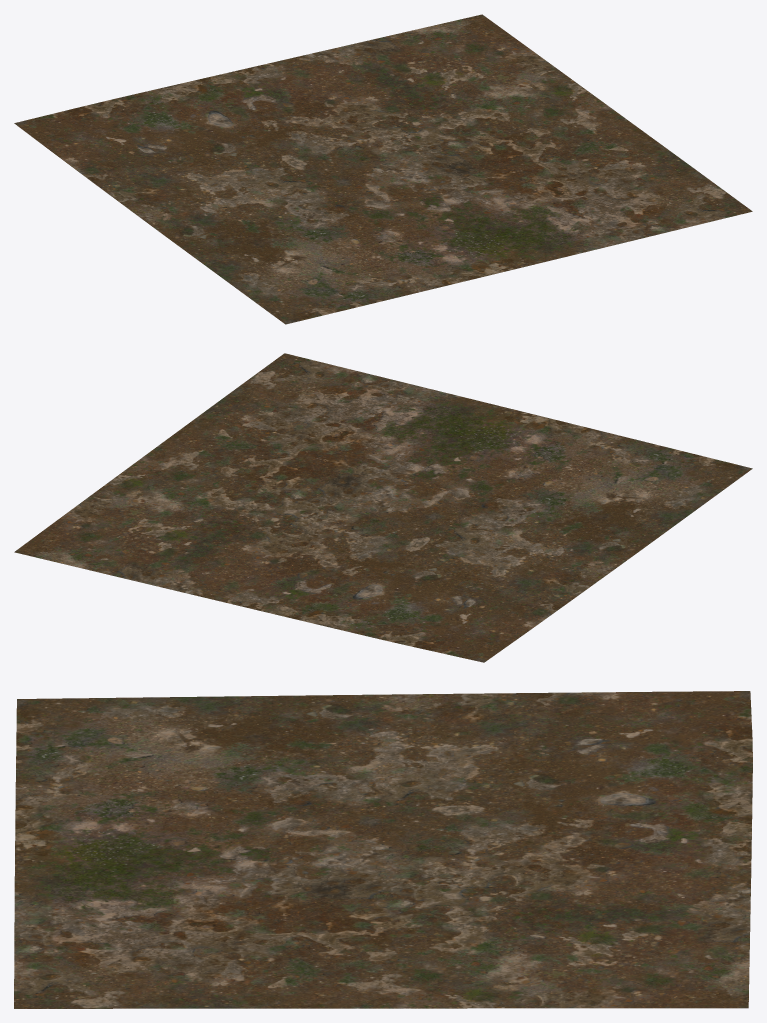
The model's file is Environtment_aslidua.fbx.
3 renders of one model, top to bottom at view 1: azimuth 30°, elevation 25°; view 2: azimuth 150°, elevation 25°; view 3: azimuth 270°, elevation 25°, orthographic. The views are drawn at different scales.
Visible parts, largest first — view 1: Plane.040; view 2: Plane.040; view 3: Plane.040.
Boxes of the visible parts, box(x1,y1,x2,y2) form: Plane.040: box(14, 14, 752, 324); Plane.040: box(14, 353, 752, 662); Plane.040: box(14, 691, 752, 1008).
Bounding box in the file's own units: 10071 × 98.38 × 10095.
1 material, 1 textured.
